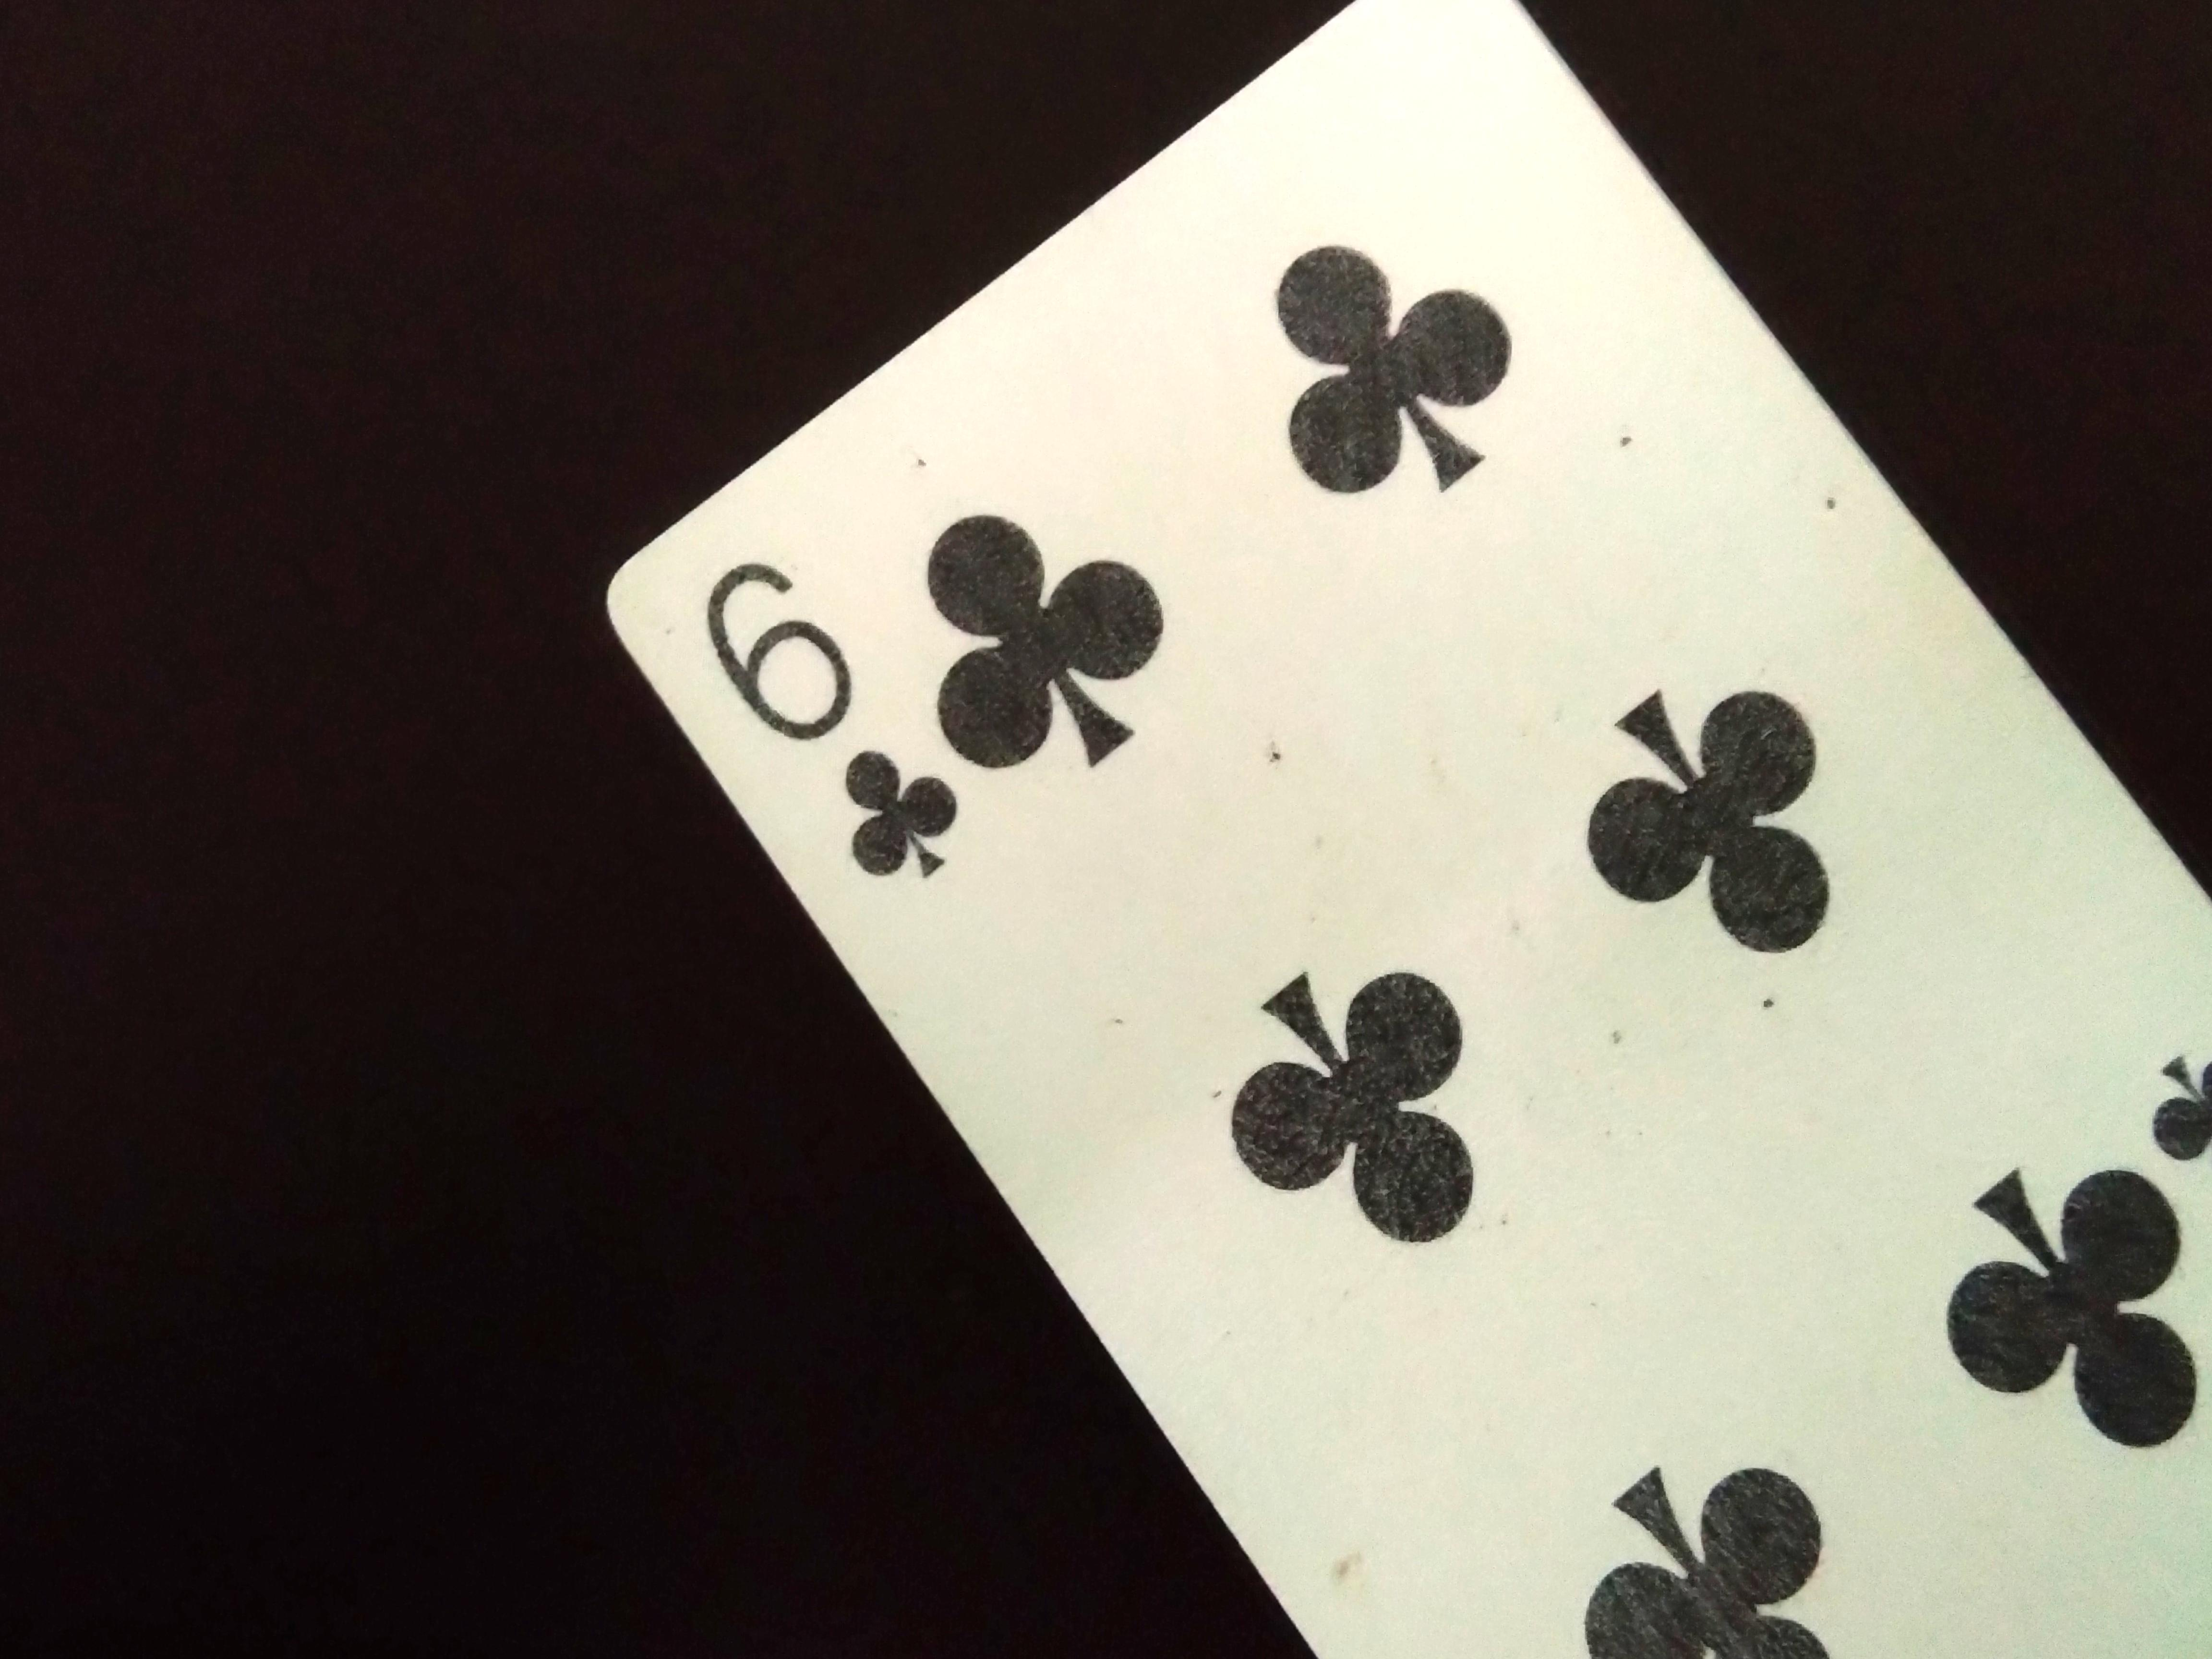6C: (705, 547, 972, 932)
